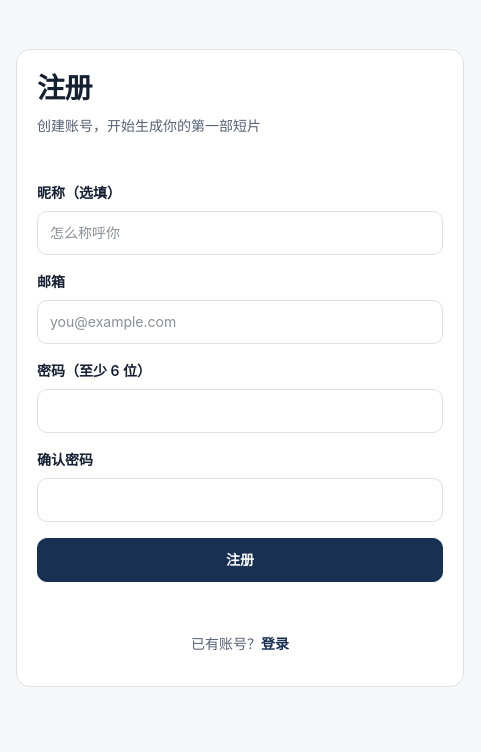
register_mismatch_is_inline_and_does_not_send_request
The width and height of the screenshot is (481, 752).
Type "abcdef" into the password field labelled "密码（至少 6 位）" at (240, 411), box x1=37 y1=389 x2=443 y2=433
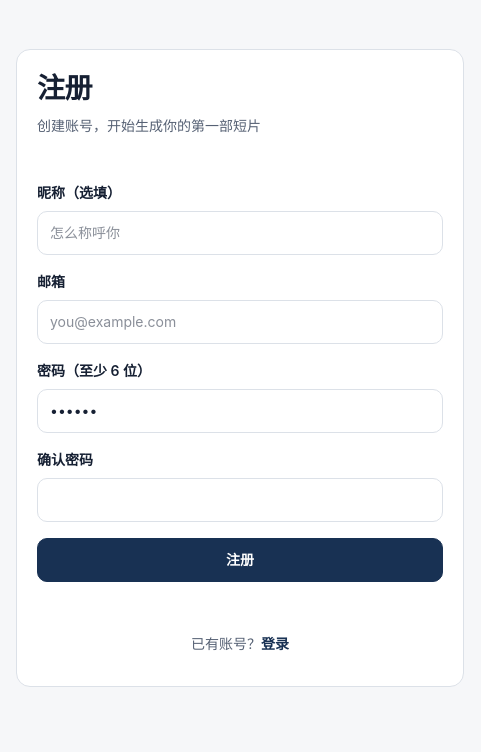
Type "abcdeg" into the password field labelled "确认密码" at (240, 500), box x1=37 y1=478 x2=443 y2=522
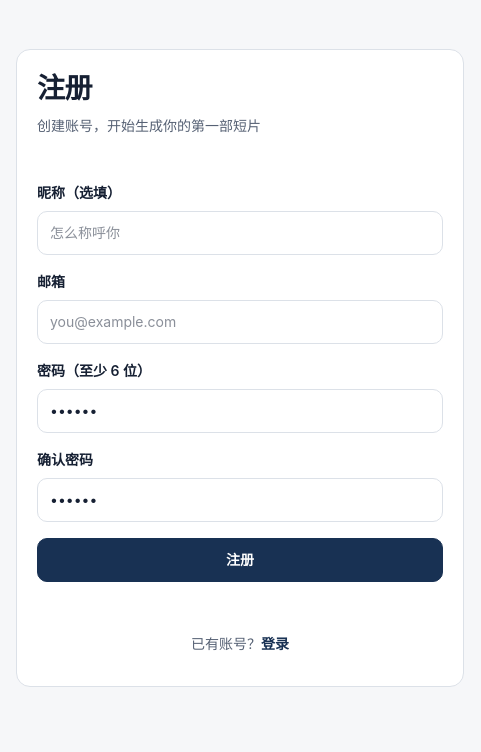
Submit the form "注册", box x1=37 y1=182 x2=443 y2=582
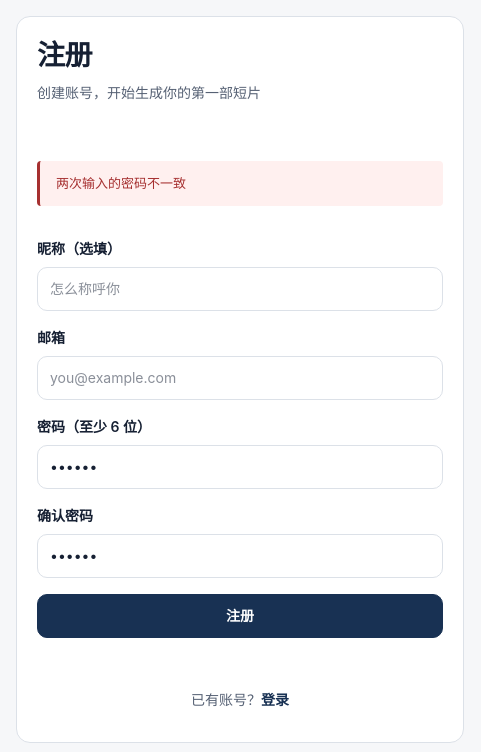
Check: the message reads "两次输入的密码不一致", box x1=56 y1=175 x2=186 y2=191
